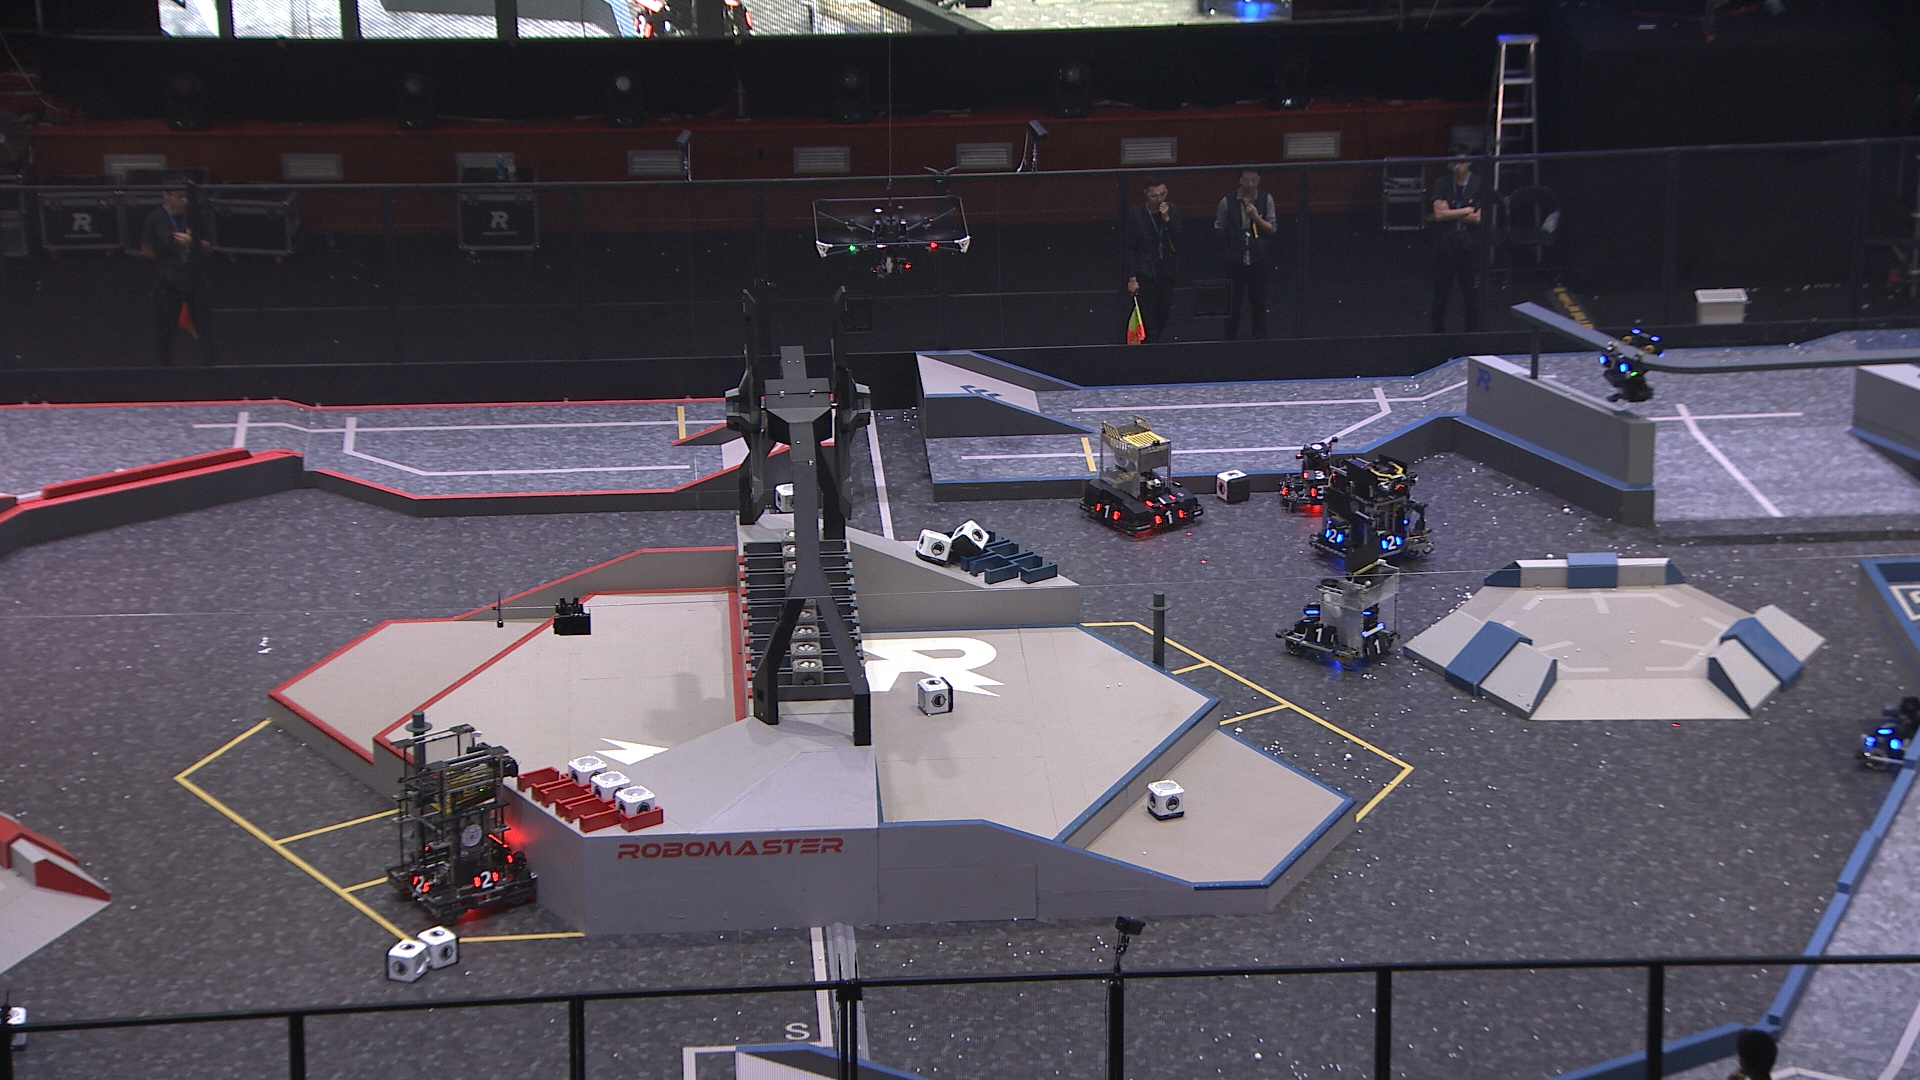armor: (1596, 353, 1629, 375), (1093, 498, 1120, 524), (1302, 626, 1335, 645), (471, 868, 501, 887), (1154, 508, 1185, 526), (1888, 733, 1911, 756), (1366, 636, 1390, 657), (1143, 493, 1176, 508), (1321, 526, 1344, 547), (406, 874, 430, 893), (1382, 533, 1400, 553), (1309, 485, 1335, 500), (1298, 609, 1313, 632), (1880, 716, 1898, 735), (1305, 469, 1333, 480), (1276, 479, 1290, 496)
car: (380, 725, 538, 924), (1077, 415, 1205, 537), (1304, 454, 1433, 570), (1278, 555, 1400, 669), (1275, 443, 1352, 516), (1858, 690, 1920, 777)
watcher: (1596, 328, 1665, 405)
